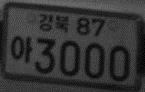0: (84, 42, 106, 80), (108, 44, 130, 82), (59, 39, 80, 77)
3: (33, 36, 56, 75)
7: (89, 16, 106, 37)
8: (75, 16, 91, 35)
경북_H: (37, 12, 70, 34)
아: (9, 34, 33, 64)
